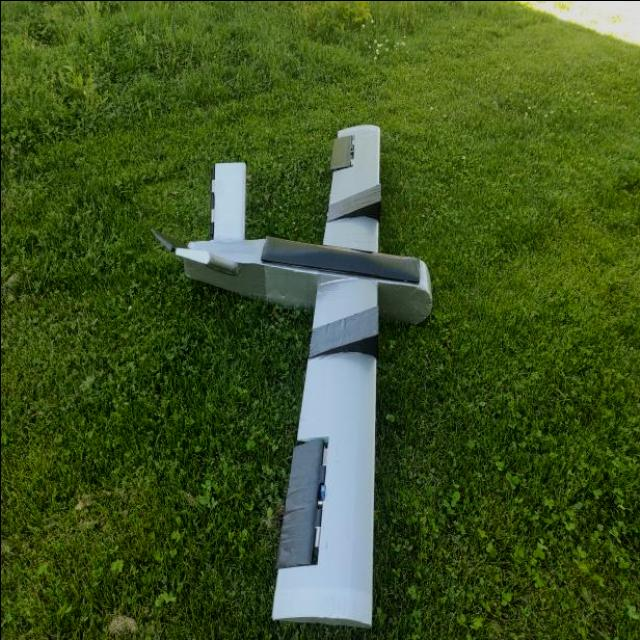plane: (148, 122, 434, 628)
